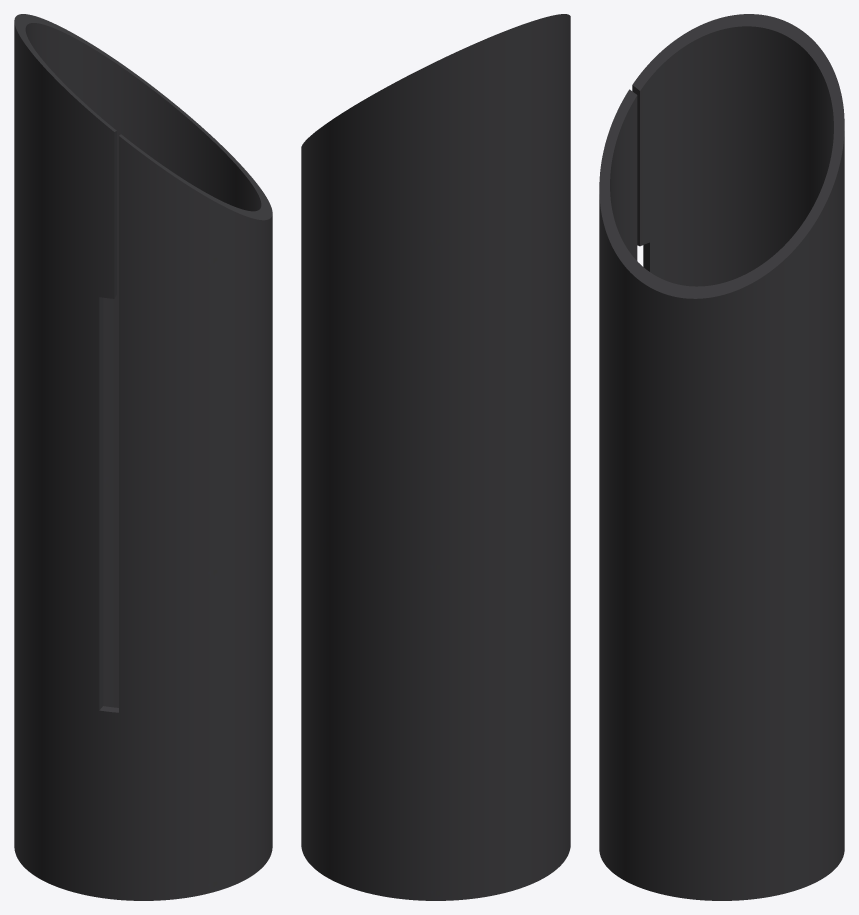
File: bishop-black.glb
The picture shows the model from 3 angles, left to right: view 1: azimuth 30°, elevation 25°; view 2: azimuth 150°, elevation 25°; view 3: azimuth 270°, elevation 25°; orthographic projection. The views are drawn at different scales.
Visible parts, largest first — view 1: 02_strelec_cerna; view 2: 02_strelec_cerna; view 3: 02_strelec_cerna.
Part boxes in pixels (x1,y1,x2,y2): 02_strelec_cerna: (14, 14, 272, 900); 02_strelec_cerna: (301, 14, 570, 900); 02_strelec_cerna: (599, 14, 844, 900).
Bounding box in the file's own units: 0.4669 × 1.65 × 0.4669.
1 material, 1 textured.
